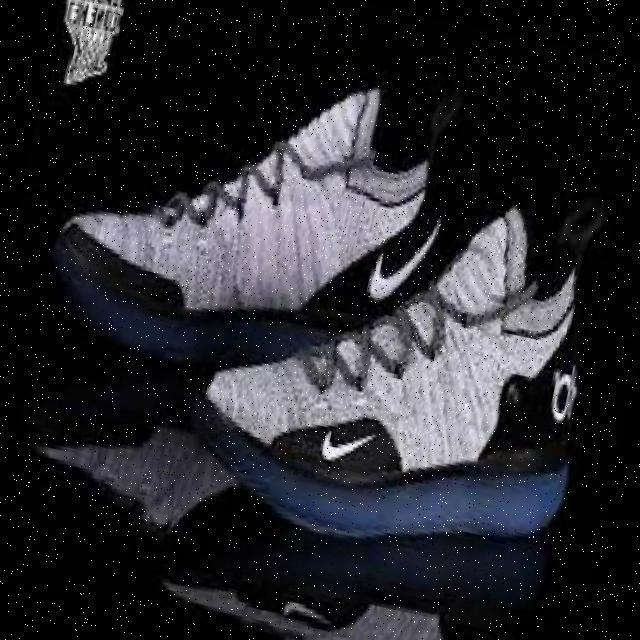Nike: (365, 203, 447, 316), (317, 413, 385, 473)
